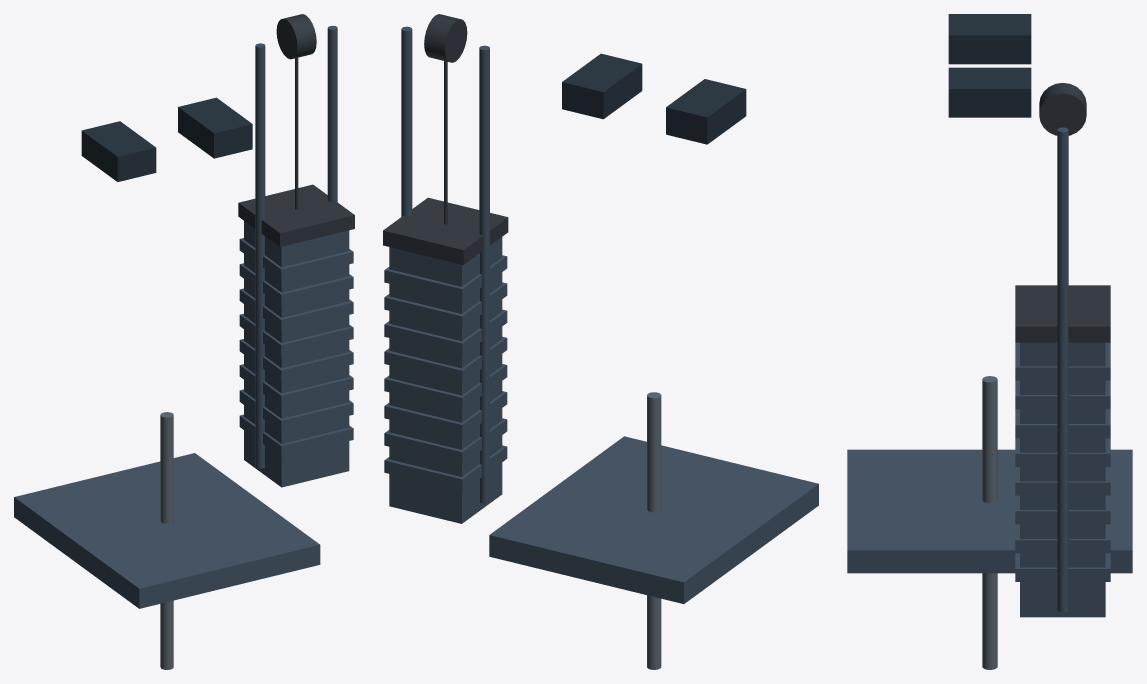
Rendered from calf_machine.glb.
3 views of the same model, side by side, from view 1: azimuth 30°, elevation 25°; view 2: azimuth 150°, elevation 25°; view 3: azimuth 270°, elevation 25° (orthographic). The views are drawn at different scales.
Parts seen in each view (by area): view 1: base, stack, weightPlate (×8), guide (×2), stackLift, LshoulderPad, RshoulderPad, LlegLink, loadPulley, loadCable; view 2: base, stack, weightPlate (×8), guide (×2), stackLift, RshoulderPad, LshoulderPad, LlegLink, loadPulley, loadCable; view 3: base, stack, weightPlate (×8), guide, stackLift, LshoulderPad, RshoulderPad, LlegLink, loadPulley.
Part boxes in pixels (bbox=[...]): base: bbox=[14, 453, 320, 608]; stack: bbox=[244, 221, 349, 487]; weightPlate (×8): bbox=[239, 238, 353, 457]; guide (×2): bbox=[255, 25, 337, 468]; stackLift: bbox=[238, 184, 354, 246]; LshoulderPad: bbox=[81, 121, 156, 181]; RshoulderPad: bbox=[178, 97, 252, 158]; LlegLink: bbox=[160, 412, 173, 669]; loadPulley: bbox=[276, 14, 316, 59]; loadCable: bbox=[295, 57, 298, 209]; base: bbox=[489, 436, 818, 603]; stack: bbox=[389, 237, 502, 523]; weightPlate (×8): bbox=[384, 255, 507, 491]; guide (×2): bbox=[401, 26, 489, 503]; stackLift: bbox=[383, 197, 508, 264]; RshoulderPad: bbox=[562, 53, 642, 119]; LshoulderPad: bbox=[666, 79, 746, 144]; LlegLink: bbox=[647, 392, 661, 669]; loadPulley: bbox=[424, 14, 467, 62]; loadCable: bbox=[444, 61, 447, 224]; base: bbox=[847, 449, 1132, 573]; stack: bbox=[1020, 342, 1105, 617]; weightPlate (×8): bbox=[1015, 342, 1110, 581]; guide: bbox=[1057, 127, 1068, 612]; stackLift: bbox=[1015, 285, 1110, 342]; LshoulderPad: bbox=[948, 14, 1031, 64]; RshoulderPad: bbox=[948, 67, 1031, 117]; LlegLink: bbox=[982, 376, 997, 669]; loadPulley: bbox=[1039, 83, 1086, 135].
Bounding box in the file's own units: 1.21 × 2.33 × 0.9.
